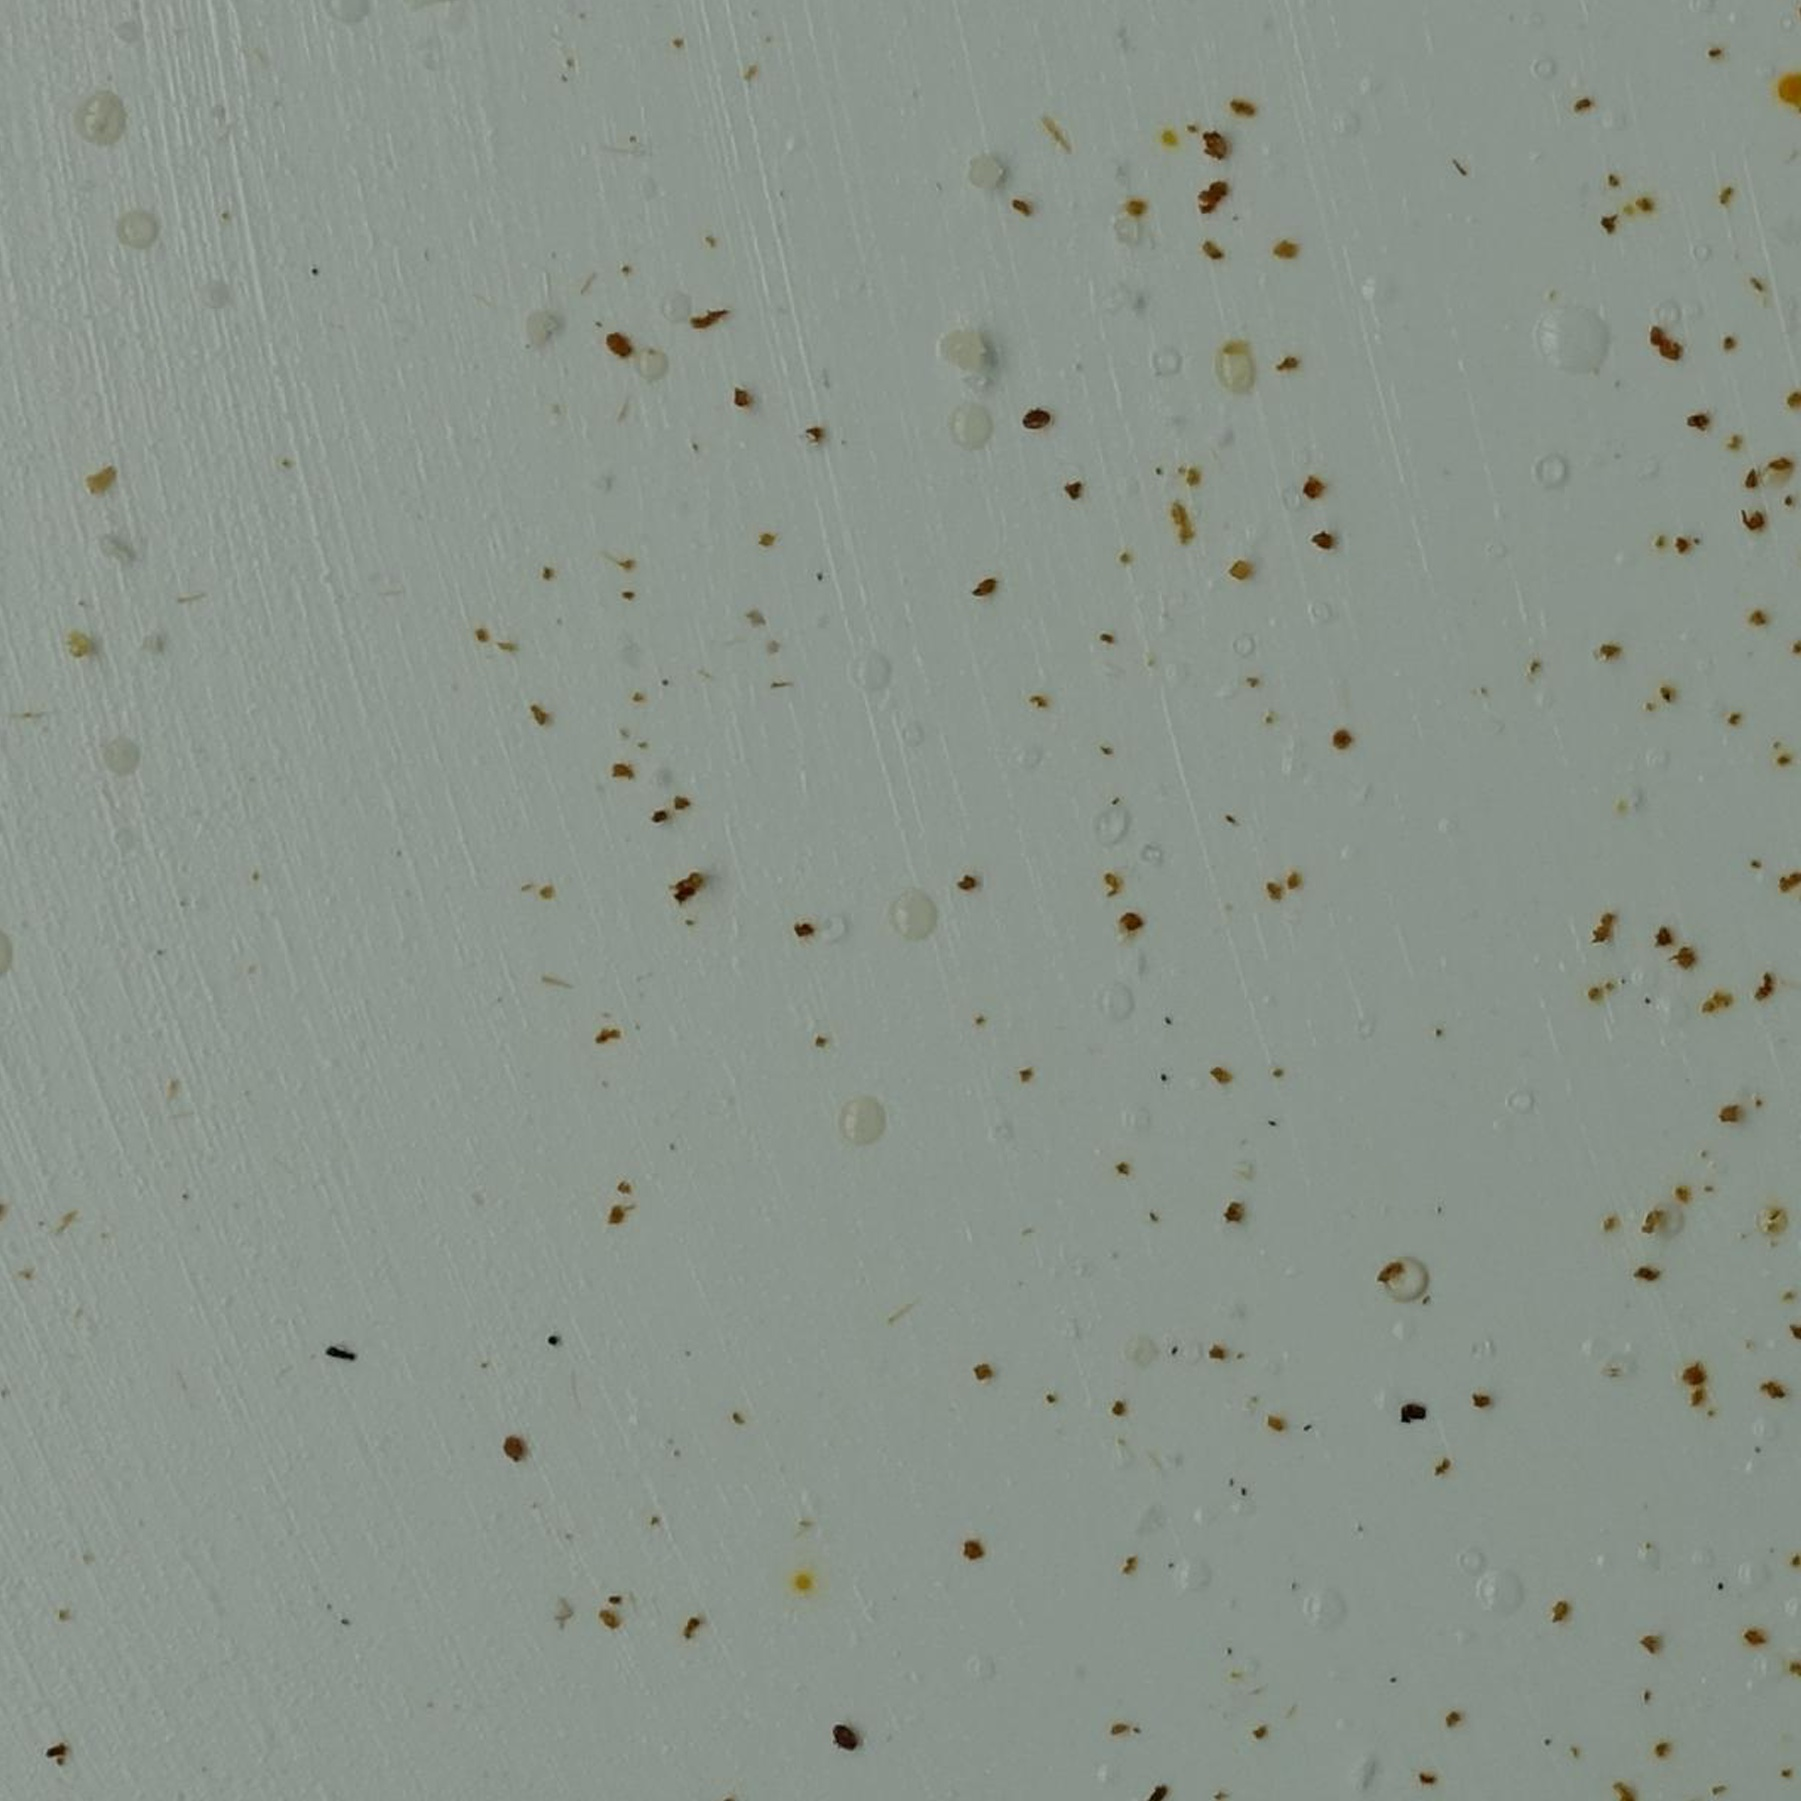Varroa: (831, 1725, 859, 1755), (1024, 404, 1052, 434)
